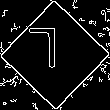L_S: (39, 29, 71, 81)
